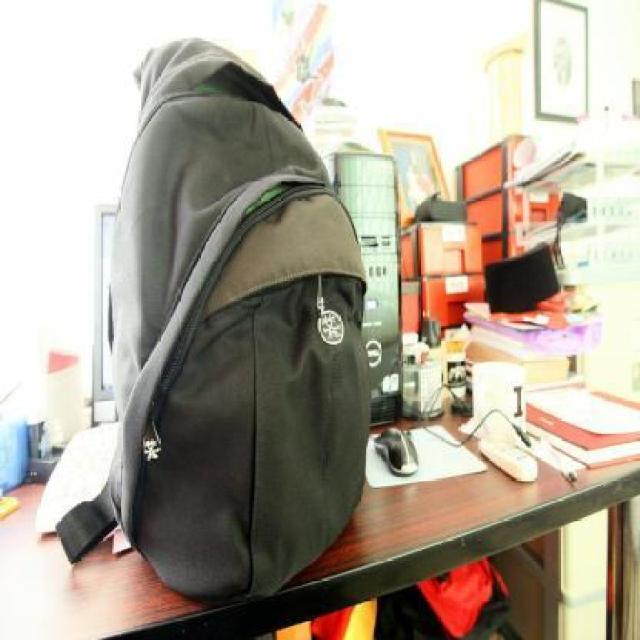backpack: (52, 30, 376, 608)
